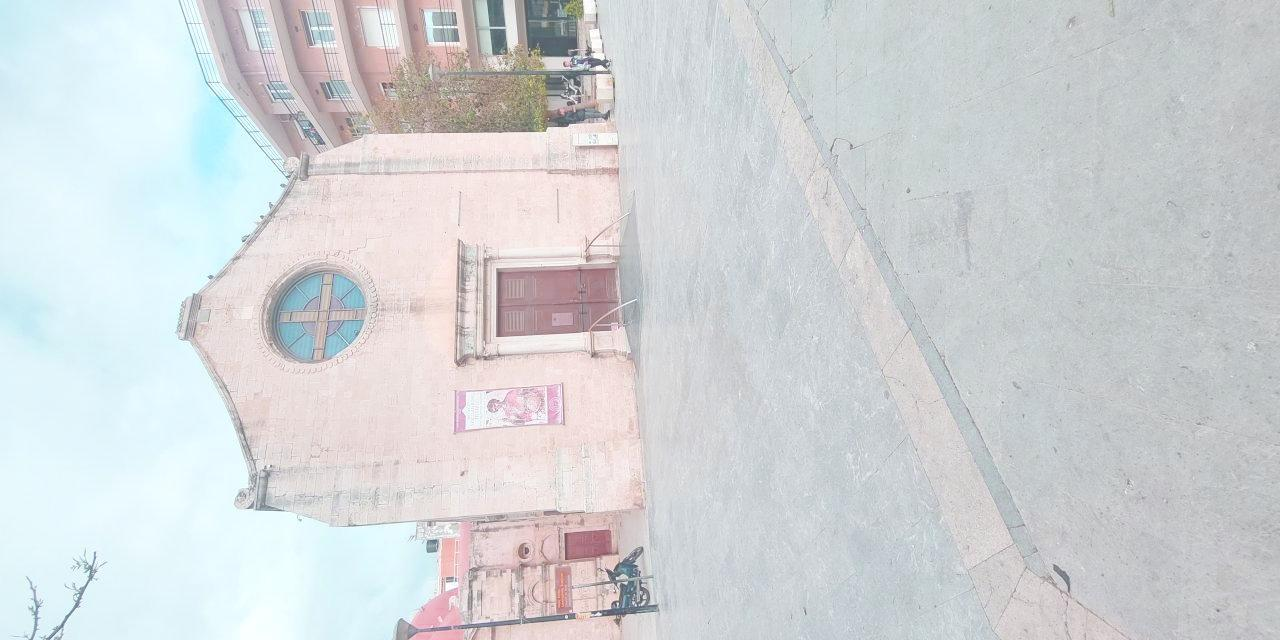Agia Aikaterini: (173, 112, 646, 545)
